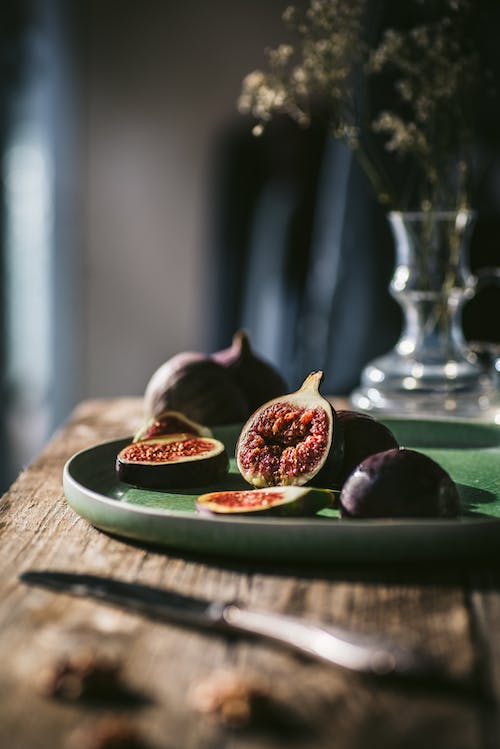knife: (15, 562, 437, 691)
